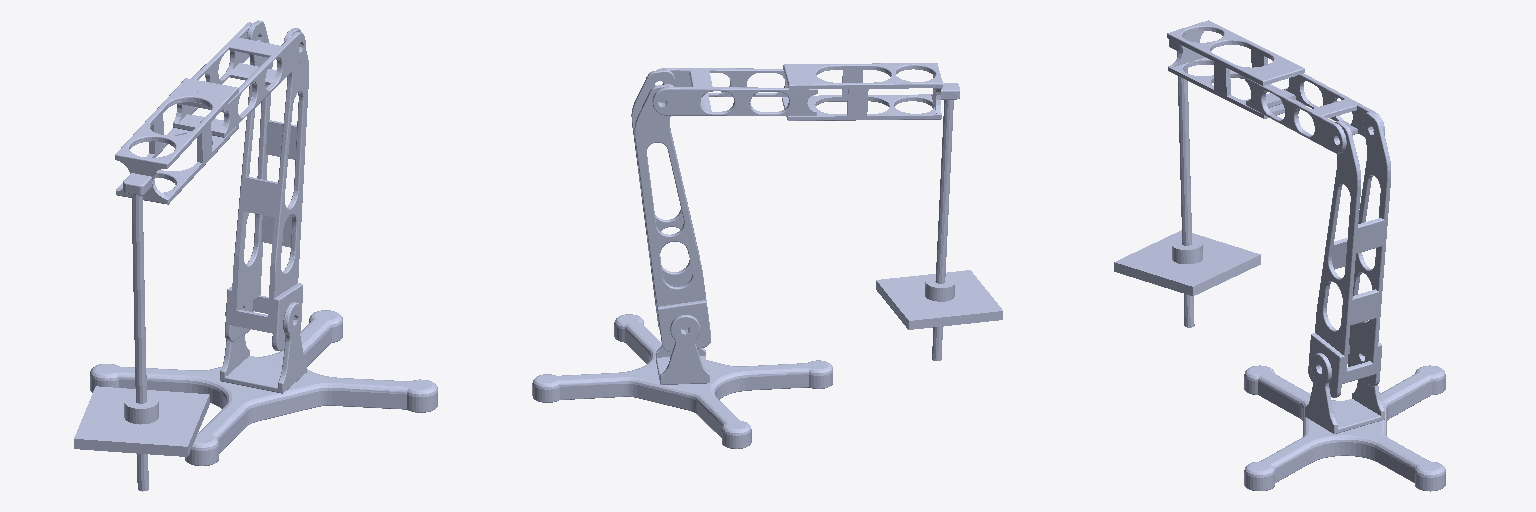
robot.urdf — New design.SLDASM:
<?xml version="1.0" encoding="utf-8"?>
<!-- This URDF was automatically created by SolidWorks to URDF Exporter! Originally created by [author] ([email redacted]) 
     Commit Version: 1.6.0-4-g7f85cfe  Build Version: 1.6.7995.38578
     For more information, please see http://wiki.ros.org/sw_urdf_exporter -->
<robot
  name="New design.SLDASM">
  <link
    name="base">
    <inertial>
      <origin
        xyz="3.29052913851979E-17 -2.15156932584657E-17 0.00492622450481955"
        rpy="0 0 0" />
      <mass
        value="0.0381238680889601" />
      <inertia
        ixx="2.40082549209224E-05"
        ixy="4.24835683589002E-13"
        ixz="1.14119832316081E-21"
        iyy="4.12432190491615E-05"
        iyz="-1.32489910564498E-21"
        izz="6.46314010200477E-05" />
    </inertial>
    <visual>
      <origin
        xyz="0 0 0"
        rpy="0 0 0" />
      <geometry>
        <mesh
          filename="package://New design.SLDASM/meshes/base.STL" />
      </geometry>
      <material
        name="">
        <color
          rgba="0.792156862745098 0.819607843137255 0.933333333333333 1" />
      </material>
    </visual>
    <collision>
      <origin
        xyz="0 0 0"
        rpy="0 0 0" />
      <geometry>
        <mesh
          filename="package://New design.SLDASM/meshes/base.STL" />
      </geometry>
    </collision>
  </link>
  <link
    name="servo_joint">
    <inertial>
      <origin
        xyz="1.93759580928601E-07 5.34994824258437E-07 0.0103725686033961"
        rpy="0 0 0" />
      <mass
        value="0.00428078404536481" />
      <inertia
        ixx="9.83068405415033E-07"
        ixy="2.10933732622893E-07"
        ixz="5.04581679391612E-12"
        iyy="8.25201412112786E-07"
        iyz="1.57577491101282E-11"
        izz="7.62708589341391E-07" />
    </inertial>
    <visual>
      <origin
        xyz="0 0 0"
        rpy="0 0 0" />
      <geometry>
        <mesh
          filename="package://New design.SLDASM/meshes/servo_joint.STL" />
      </geometry>
      <material
        name="">
        <color
          rgba="0.792156862745098 0.819607843137255 0.933333333333333 1" />
      </material>
    </visual>
    <collision>
      <origin
        xyz="0 0 0"
        rpy="0 0 0" />
      <geometry>
        <mesh
          filename="package://New design.SLDASM/meshes/servo_joint.STL" />
      </geometry>
    </collision>
  </link>
  <joint
    name="joint_1"
    type="revolute">
    <origin
      xyz="0 0 0.01"
      rpy="0 0 0" />
    <parent
      link="base" />
    <child
      link="servo_joint" />
    <axis
      xyz="0 0 1" />
    <limit
      lower="0"
      upper="6.28"
      effort="200"
      velocity="1" />
  </joint>
  <link
    name="arm_1">
    <inertial>
      <origin
        xyz="-0.00175903439505589 0.0139926348349559 0.0450927156231784"
        rpy="0 0 0" />
      <mass
        value="0.0140879195397289" />
      <inertia
        ixx="2.65207224340665E-05"
        ixy="-1.17097244965078E-07"
        ixz="-2.67846348016641E-06"
        iyy="2.66084291650004E-05"
        iyz="-1.85763891905224E-06"
        izz="2.45955964724923E-06" />
    </inertial>
    <visual>
      <origin
        xyz="0 0 0"
        rpy="0 0 0" />
      <geometry>
        <mesh
          filename="package://New design.SLDASM/meshes/arm_1.STL" />
      </geometry>
      <material
        name="">
        <color
          rgba="0.792156862745098 0.819607843137255 0.933333333333333 1" />
      </material>
    </visual>
    <collision>
      <origin
        xyz="0 0 0"
        rpy="0 0 0" />
      <geometry>
        <mesh
          filename="package://New design.SLDASM/meshes/arm_1.STL" />
      </geometry>
    </collision>
  </link>
  <joint
    name="joint_2"
    type="revolute">
    <origin
      xyz="0.00712389102410417 -0.0102713278925701 0.0300000000000001"
      rpy="0 0 0" />
    <parent
      link="servo_joint" />
    <child
      link="arm_1" />
    <axis
      xyz="-0.569911281928334 0.821706231405606 0" />
    <limit
      lower="-1.57"
      upper="1.57"
      effort="100"
      velocity="0.5" />
  </joint>
  <link
    name="arm_2">
    <inertial>
      <origin
        xyz="-0.0373659869191507 -0.0137645090983137 7.53965759064112E-05"
        rpy="0 0 0" />
      <mass
        value="0.00579693401419874" />
      <inertia
        ixx="1.85947245738498E-06"
        ixy="-1.6407184008898E-06"
        ixz="1.21985888399954E-08"
        iyy="3.08471631731949E-06"
        iyz="8.45794952115233E-09"
        izz="4.60616423787953E-06" />
    </inertial>
    <visual>
      <origin
        xyz="0 0 0"
        rpy="0 0 0" />
      <geometry>
        <mesh
          filename="package://New design.SLDASM/meshes/arm_2.STL" />
      </geometry>
      <material
        name="">
        <color
          rgba="0.792156862745098 0.819607843137255 0.933333333333333 1" />
      </material>
    </visual>
    <collision>
      <origin
        xyz="0 0 0"
        rpy="0 0 0" />
      <geometry>
        <mesh
          filename="package://New design.SLDASM/meshes/arm_2.STL" />
      </geometry>
    </collision>
  </link>
  <joint
    name="joint_3"
    type="revolute">
    <origin
      xyz="0.00774124492848848 0.00841154972026048 0.124549901454466"
      rpy="0.0248705193744537 -0.0358056018819653 -0.000890497026133911" />
    <parent
      link="arm_1" />
    <child
      link="arm_2" />
    <axis
      xyz="0.570277028142124 -0.821452439994785 0" />
    <limit
      lower="-1.57"
      upper="0"
      effort="100"
      velocity="0.5" />
  </joint>
  <link
    name="end">
    <inertial>
      <origin
        xyz="-0.0243128403702781 -0.0181548743473581 -0.0100015254381315"
        rpy="0 0 0" />
      <mass
        value="0.0062941930101644" />
      <inertia
        ixx="2.35960502796393E-06"
        ixy="-2.01359439478088E-06"
        ixz="-1.92279401836908E-10"
        iyy="3.55260288093362E-06"
        iyz="-1.48373772420461E-10"
        izz="5.1429711376232E-06" />
    </inertial>
    <visual>
      <origin
        xyz="0 0 0"
        rpy="0 0 0" />
      <geometry>
        <mesh
          filename="package://New design.SLDASM/meshes/end.STL" />
      </geometry>
      <material
        name="">
        <color
          rgba="0.792156862745098 0.819607843137255 0.933333333333333 1" />
      </material>
    </visual>
    <collision>
      <origin
        xyz="0 0 0"
        rpy="0 0 0" />
      <geometry>
        <mesh
          filename="package://New design.SLDASM/meshes/end.STL" />
      </geometry>
    </collision>
  </link>
  <joint
    name="joint_4"
    type="revolute">
    <origin
      xyz="-0.0652580721810445 -0.0331305601403585 0.010000000000001"
      rpy="0 0 0" />
    <parent
      link="arm_2" />
    <child
      link="end" />
    <axis
      xyz="0 0 1" />
    <limit
      lower="-1.57"
      upper="1.57"
      effort="100"
      velocity="0.5" />
  </joint>
  <link
    name="laproscope">
    <inertial>
      <origin
        xyz="9.71445146547012E-17 6.52256026967279E-16 -0.0749999999999996"
        rpy="0 0 0" />
      <mass
        value="0.00294524311274043" />
      <inertia
        ixx="5.52693277875196E-06"
        ixy="1.65436122510606E-24"
        ixz="-6.7910808849458E-22"
        iyy="5.52693277875196E-06"
        iyz="1.29427011741612E-20"
        izz="9.20388472731384E-09" />
    </inertial>
    <visual>
      <origin
        xyz="0 0 0"
        rpy="0 0 0" />
      <geometry>
        <mesh
          filename="package://New design.SLDASM/meshes/laproscope.STL" />
      </geometry>
      <material
        name="">
        <color
          rgba="0.792156862745098 0.819607843137255 0.933333333333333 1" />
      </material>
    </visual>
    <collision>
      <origin
        xyz="0 0 0"
        rpy="0 0 0" />
      <geometry>
        <mesh
          filename="package://New design.SLDASM/meshes/laproscope.STL" />
      </geometry>
    </collision>
  </link>
  <joint
    name="joint_5"
    type="fixed">
    <origin
      xyz="-0.0580913478984719 -0.0433779356279055 -0.00750000000000001"
      rpy="0 0 0" />
    <parent
      link="end" />
    <child
      link="laproscope" />
    <axis
      xyz="0 0 0" />
  </joint>
  <link
    name="laproholder">
    <inertial>
      <origin
        xyz="-3.6304E-14 -1.435E-14 0.0064286"
        rpy="0 0 0" />
      <mass
        value="0.0020617" />
      <inertia
        ixx="1.113E-07"
        ixy="-1.0521E-23"
        ixz="-2.7969E-22"
        iyy="1.113E-07"
        iyz="3.257E-23"
        izz="5.0621E-08" />
    </inertial>
    <visual>
      <origin
        xyz="0 0 0"
        rpy="0 0 0" />
      <geometry>
        <mesh
          filename="package://New design.SLDASM/meshes/laproholder.STL" />
      </geometry>
      <material
        name="">
        <color
          rgba="0.79216 0.81961 0.93333 1" />
      </material>
    </visual>
    <collision>
      <origin
        xyz="0 0 0"
        rpy="0 0 0" />
      <geometry>
        <mesh
          filename="package://New design.SLDASM/meshes/laproholder.STL" />
      </geometry>
    </collision>
  </link>
  <joint
    name="joint_6"
    type="prismatic">
    <origin
      xyz="0 0 -0.1224"
      rpy="0 0 0" />
    <parent
      link="laproscope" />
    <child
      link="laproholder" />
    <axis
      xyz="0 0 1" />
    <limit
      lower="0"
      upper="150"
      effort="100"
      velocity="5" />
  </joint>
  <link
    name="stomach">
    <inertial>
      <origin
        xyz="-3.6526E-14 -1.4433E-14 -0.0025"
        rpy="0 0 0" />
      <mass
        value="0.012107" />
      <inertia
        ixx="2.6269E-06"
        ixy="1.1752E-21"
        ixz="1.6095E-22"
        iyy="2.6269E-06"
        iyz="2.647E-23"
        izz="5.2034E-06" />
    </inertial>
    <visual>
      <origin
        xyz="0 0 0"
        rpy="0 0 0" />
      <geometry>
        <mesh
          filename="package://New design.SLDASM/meshes/stomach.STL" />
      </geometry>
      <material
        name="">
        <color
          rgba="0.79216 0.81961 0.93333 1" />
      </material>
    </visual>
    <collision>
      <origin
        xyz="0 0 0"
        rpy="0 0 0" />
      <geometry>
        <mesh
          filename="package://New design.SLDASM/meshes/stomach.STL" />
      </geometry>
    </collision>
  </link>
  <joint
    name="joint_7"
    type="fixed">
    <origin
      xyz="0 0 0.0075"
      rpy="0 0 0" />
    <parent
      link="laproholder" />
    <child
      link="stomach" />
    <axis
      xyz="0 0 0" />
  </joint>
</robot>

--- Render facts (derived) ---
3 views of the same robot in one strip: view 1: azimuth 30°, elevation 25°; view 2: azimuth 150°, elevation 25°; view 3: azimuth 270°, elevation 25° (orthographic).
Model New design.SLDASM with 8 links and 7 joints (4 revolute, 1 prismatic, 2 fixed), rooted at base, posed every joint at zero.
Links seen in each view (by area): view 1: arm_1, base, end, stomach, arm_2, servo_joint, laproscope, laproholder; view 2: base, arm_1, end, arm_2, stomach, servo_joint, laproscope, laproholder; view 3: arm_1, base, end, stomach, arm_2, servo_joint, laproscope, laproholder.
Link boxes in pixels (box(x1,y1,x2,y2)): arm_1: box(225, 20, 308, 350); base: box(90, 310, 437, 465); end: box(115, 78, 238, 204); stomach: box(74, 386, 209, 456); arm_2: box(173, 22, 305, 137); servo_joint: box(220, 302, 306, 393); laproscope: box(131, 177, 148, 491); laproholder: box(124, 394, 158, 424); base: box(532, 314, 832, 448); arm_1: box(631, 69, 710, 351); end: box(782, 63, 959, 120); arm_2: box(652, 68, 817, 115); stomach: box(876, 270, 1002, 329); servo_joint: box(656, 315, 709, 384); laproscope: box(932, 85, 954, 360); laproholder: box(925, 276, 954, 326); arm_1: box(1308, 112, 1390, 397); base: box(1244, 365, 1445, 491); end: box(1167, 20, 1305, 118); stomach: box(1114, 230, 1260, 295); arm_2: box(1245, 67, 1384, 153); servo_joint: box(1305, 353, 1384, 433); laproscope: box(1177, 51, 1194, 327); laproholder: box(1172, 238, 1202, 263).
Bounding box of the posed robot: 0.2016 × 0.159 × 0.1724 m (x, y, z).
8 mesh visuals loaded from 8 distinct referenced files (8 binary STL).